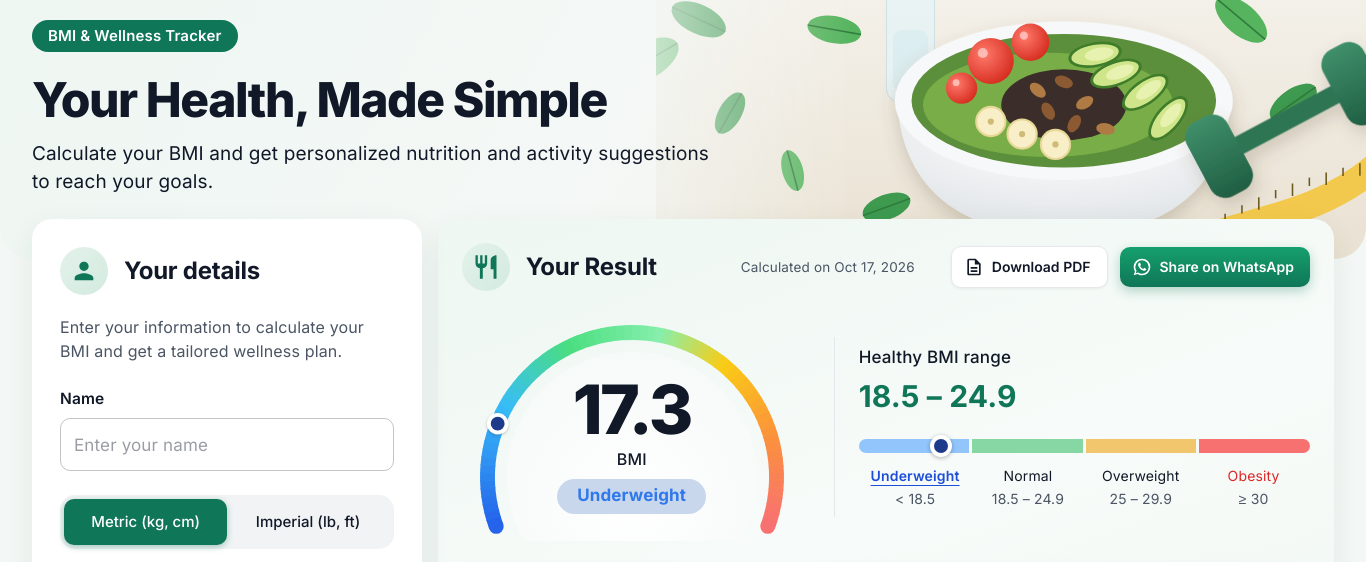
Test: BmiApp › converts values when switching to imperial units
Click the button "Imperial (lb, ft)".
click(308, 522)  # box [226,499,390,545]
(page scrolled)
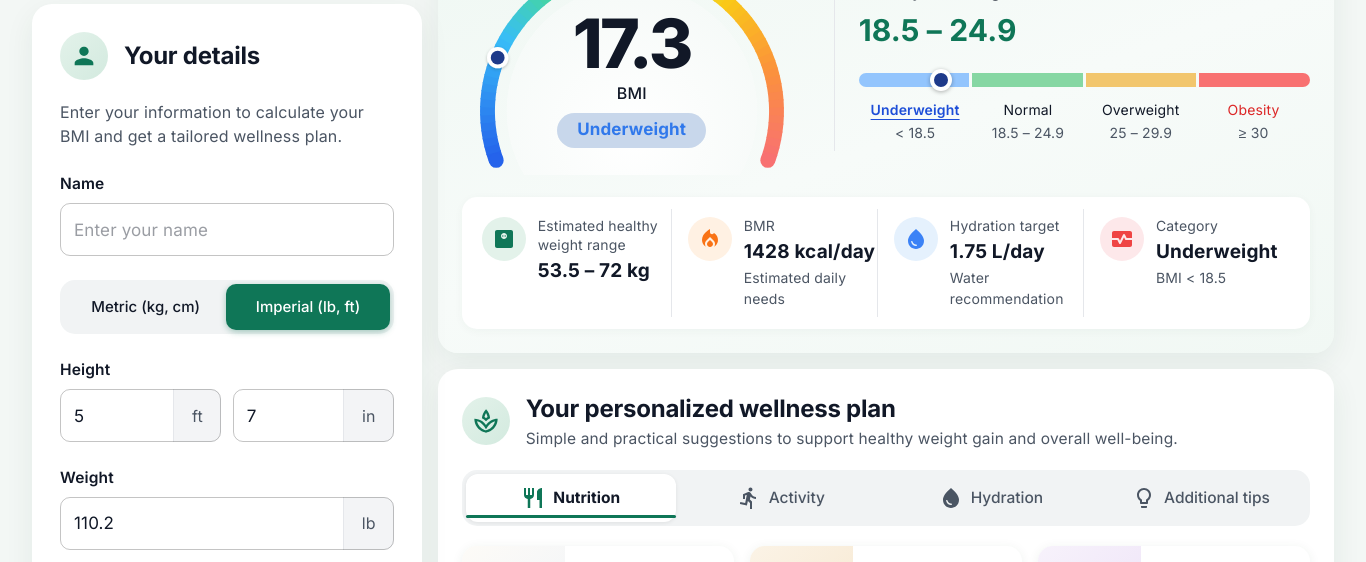
expect the field named "Height in feet" holds "5": met, box [60,389,165,442]
expect the field named "Height in inches" holds "7": met, box [233,389,335,442]
expect the field named "Weight in pounds" holds "110.2": met, box [60,497,335,549]
